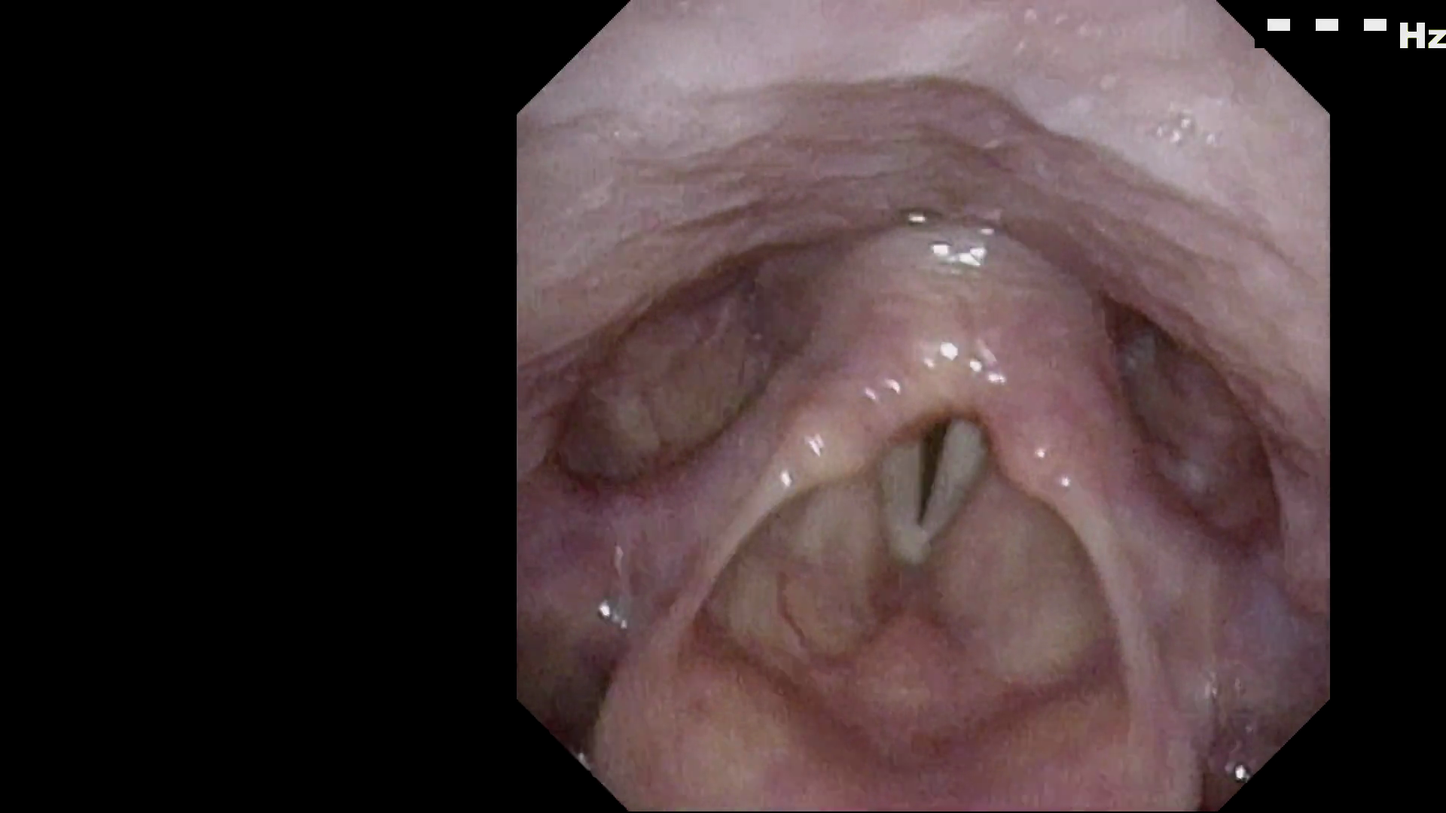epiglottis: (612, 563, 1238, 759)
trachea: (864, 371, 1035, 564)
